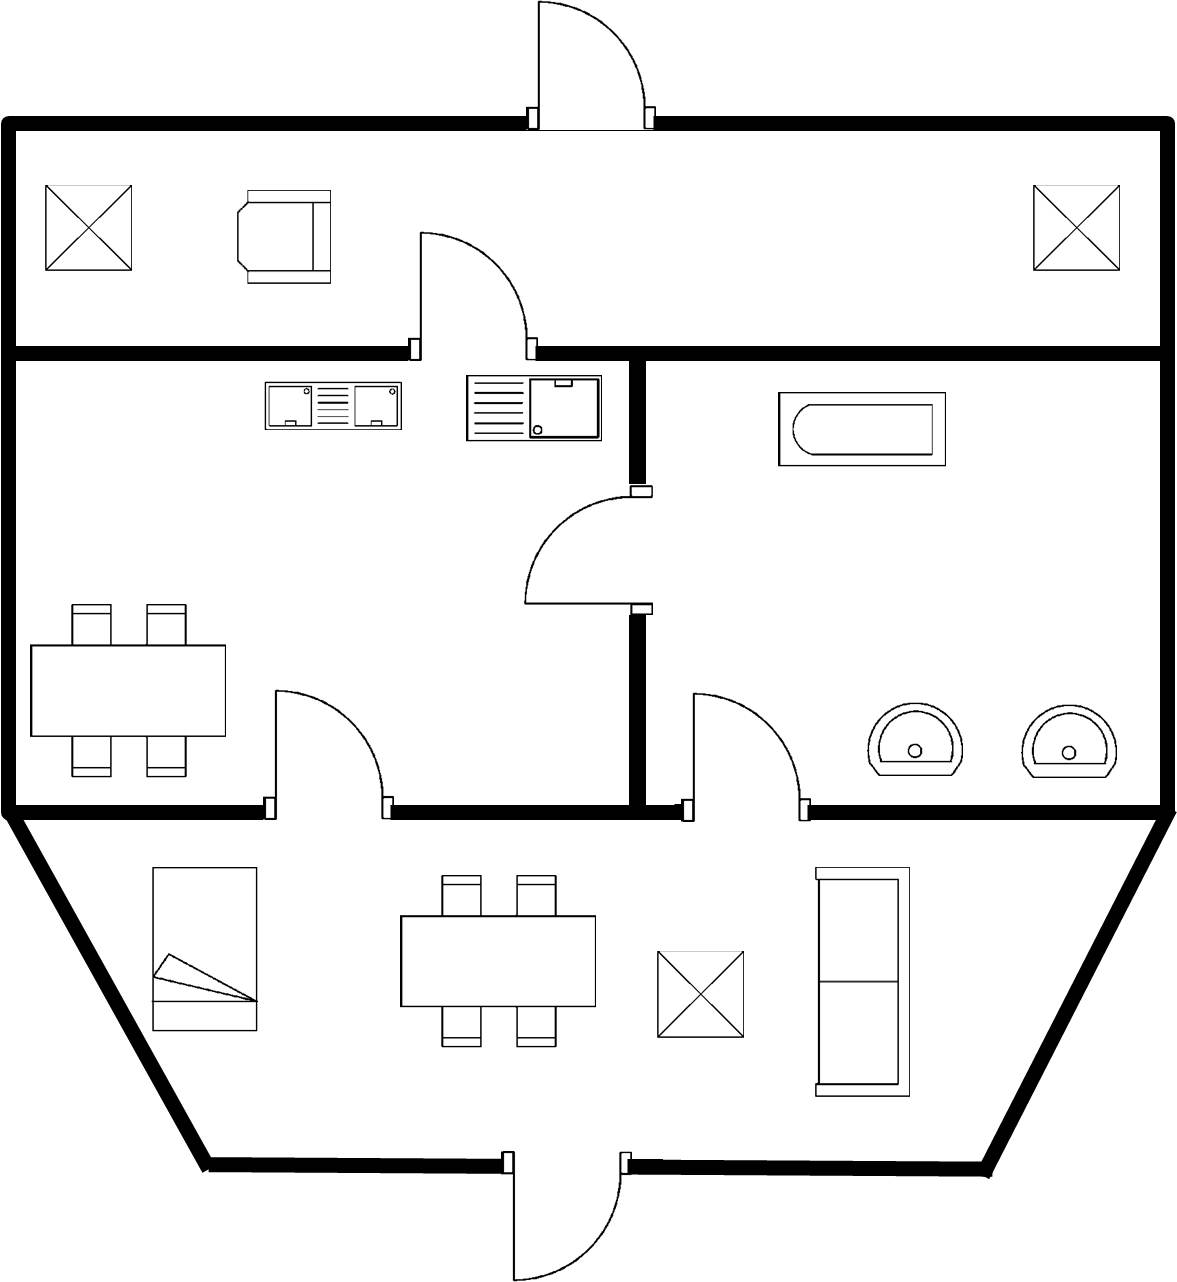armchair: (228, 177, 345, 299), (1021, 175, 1131, 286)
bed: (139, 857, 271, 1042)
coffee_table: (646, 936, 756, 1052), (34, 175, 141, 281)
dining_table: (388, 865, 606, 1059), (24, 594, 234, 789)
large_sofa: (800, 859, 923, 1111)
sink: (453, 365, 613, 454)
small_sink: (856, 695, 974, 789), (1011, 695, 1125, 789)
tub: (766, 381, 956, 475)
twin_sink: (253, 371, 409, 439)
